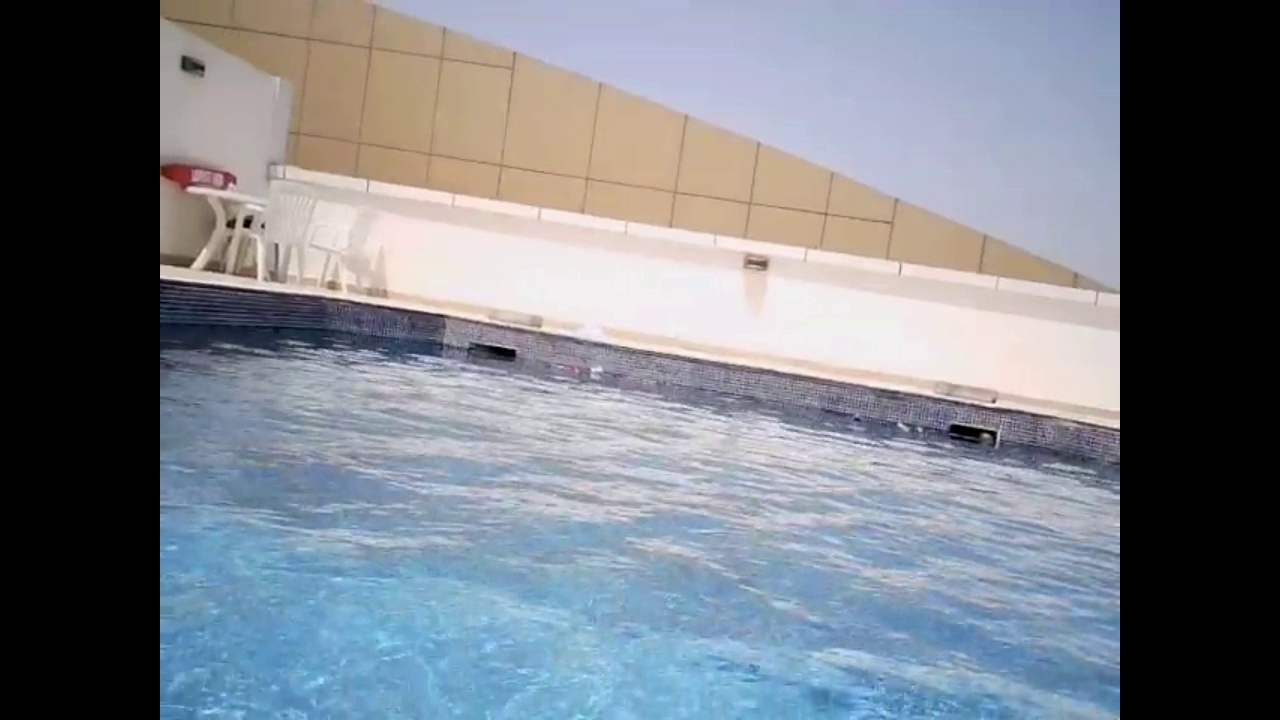debris: (849, 407, 866, 430), (891, 415, 910, 435), (978, 430, 994, 446), (587, 363, 605, 377), (910, 423, 925, 435)
